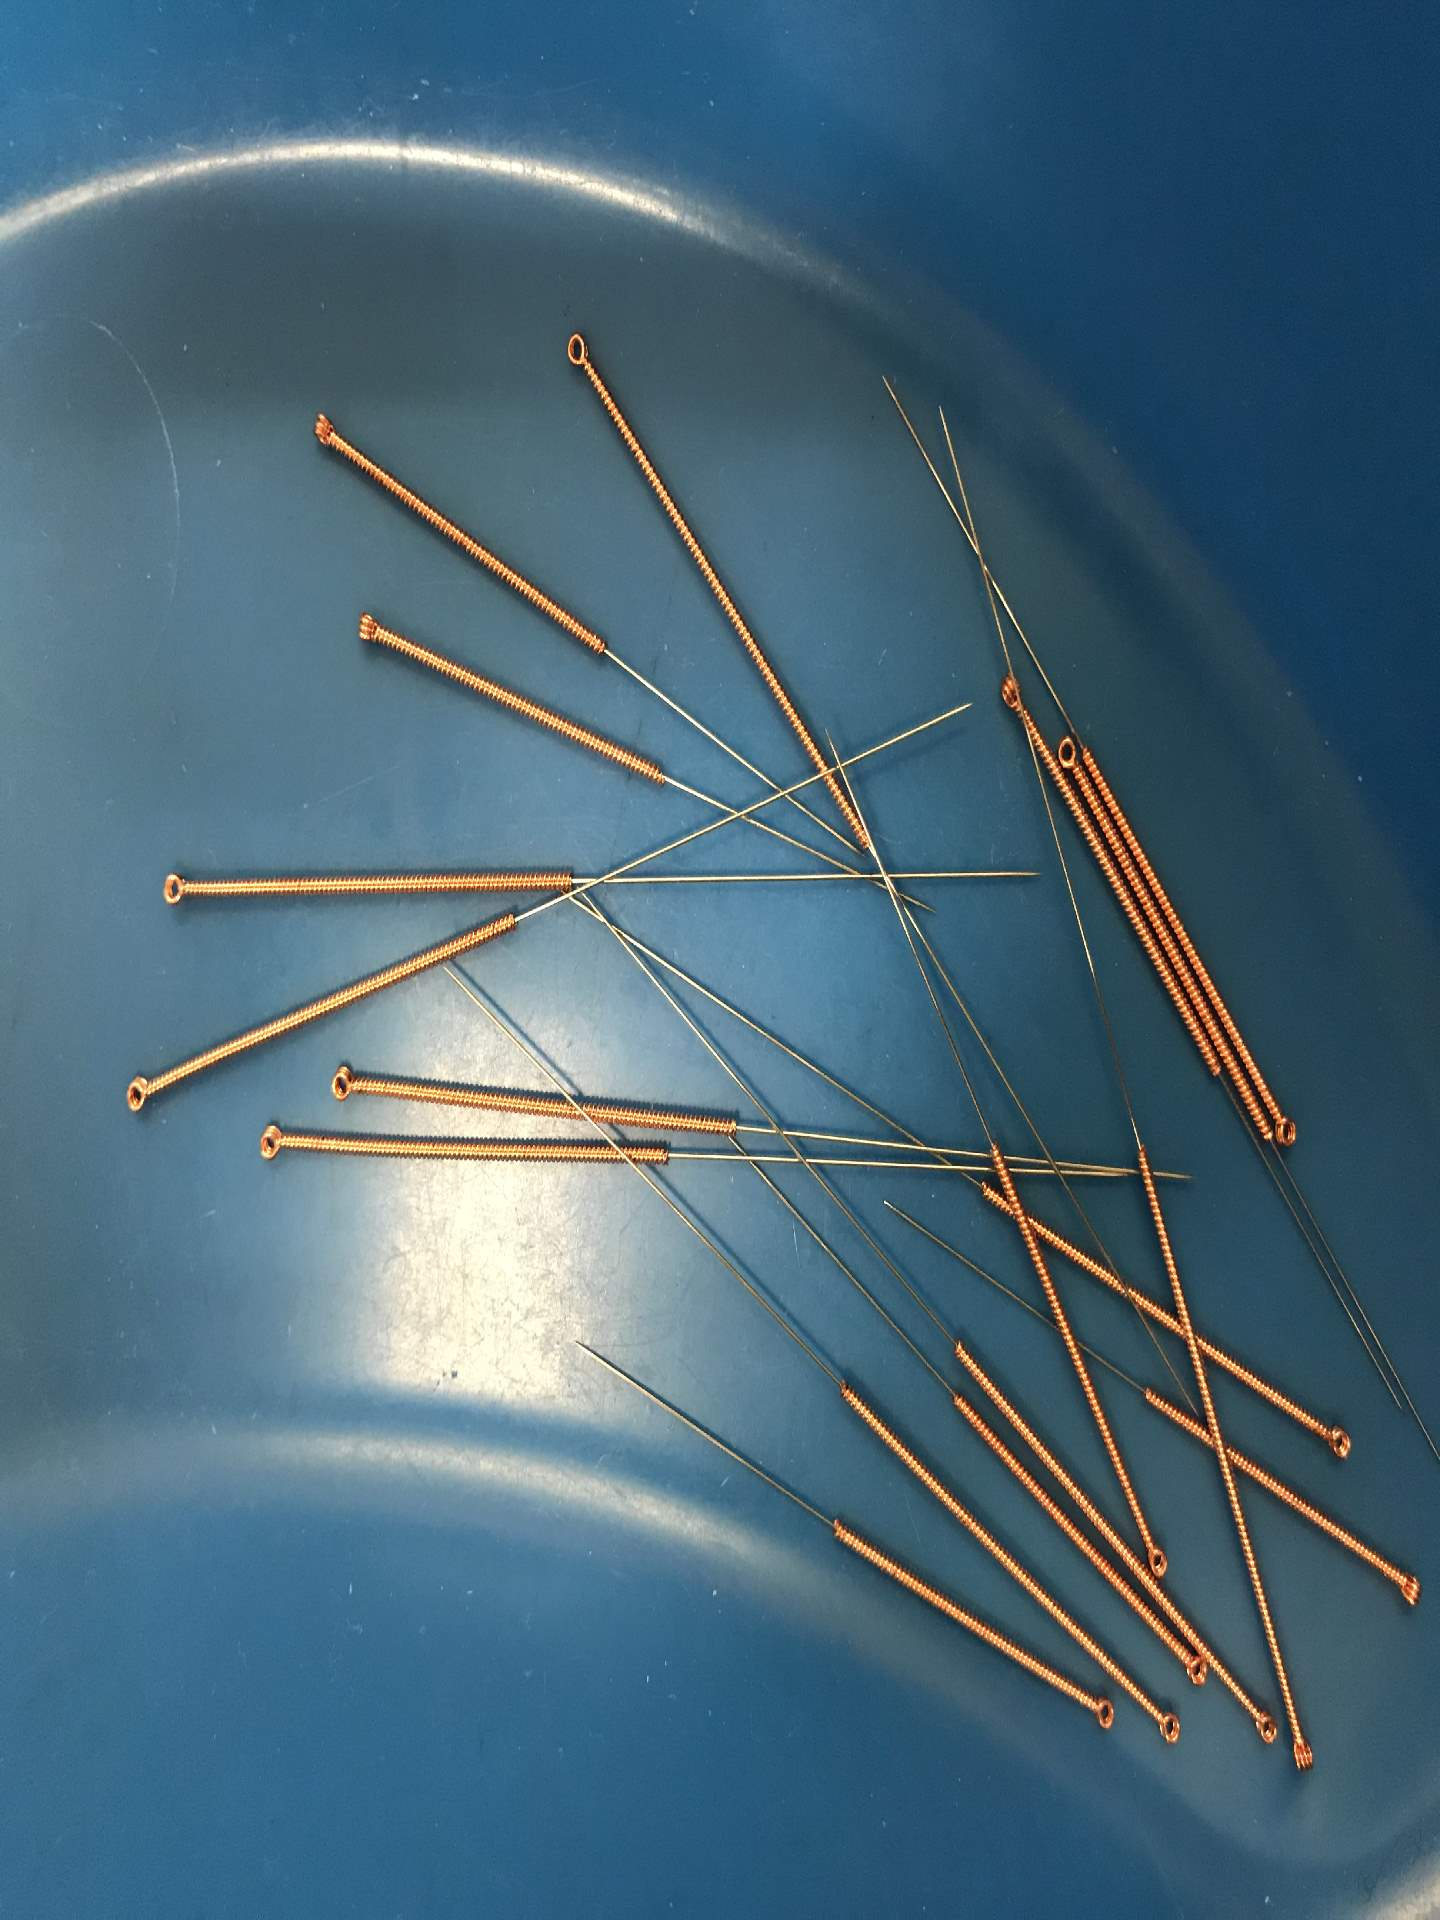needle: (988, 661, 1035, 727), (552, 319, 604, 379), (1383, 1559, 1432, 1621), (113, 1063, 163, 1123), (318, 1055, 368, 1113), (147, 865, 200, 918), (247, 1113, 295, 1170), (1283, 1716, 1322, 1785), (343, 603, 395, 655), (1242, 1696, 1284, 1758), (1314, 1414, 1361, 1469), (298, 404, 346, 457), (1144, 1701, 1190, 1755), (1080, 1692, 1122, 1737), (1272, 1096, 1302, 1155), (1054, 727, 1083, 779), (1175, 1649, 1210, 1692), (1145, 1531, 1172, 1581)
